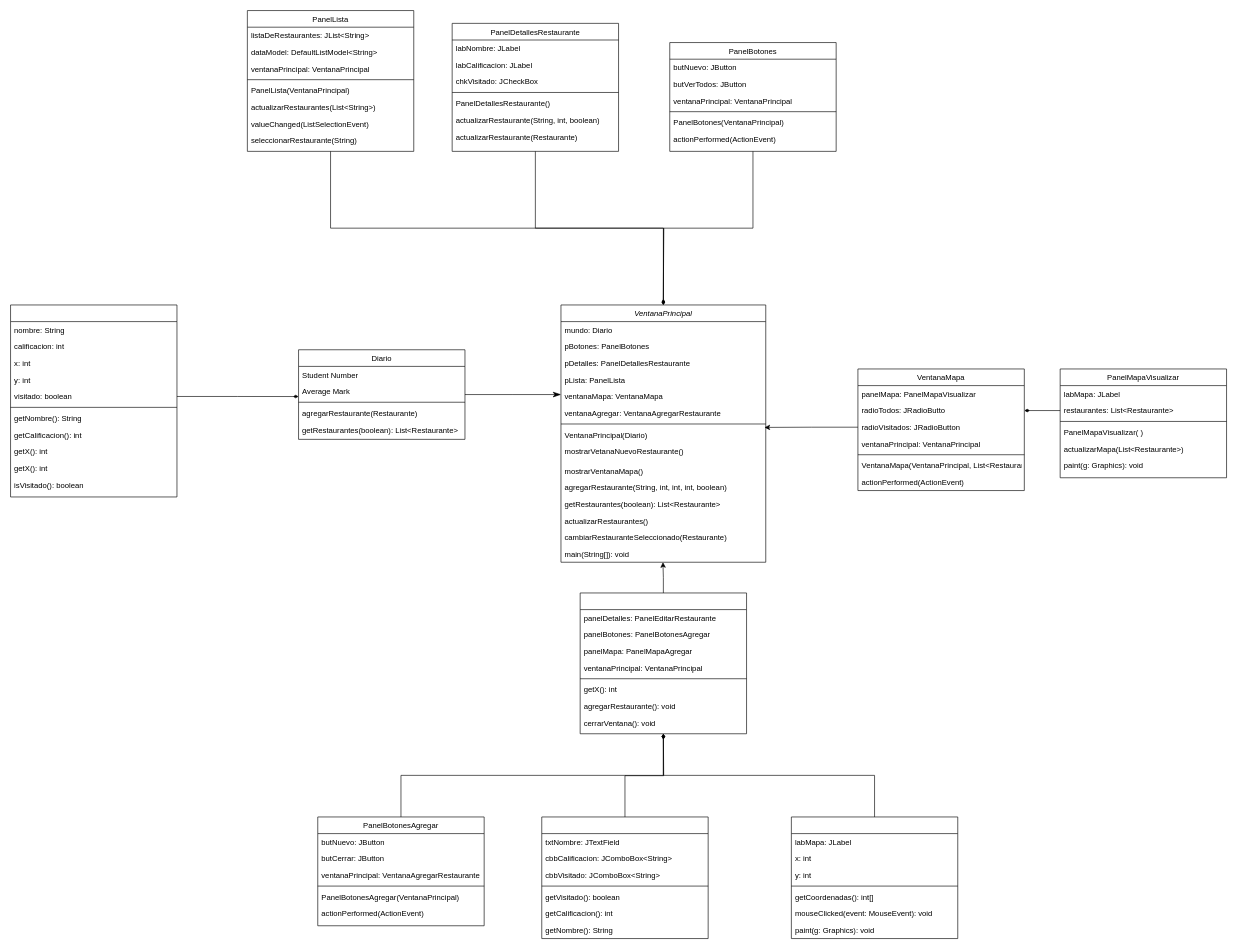
Some shapes in this 1237 by 949 pixel diagram are drawn without their labels. The shapes that lost their labels are listed below. From the top down, each one's box as (x1, y1, x2, y2) in pixels, then its label:
(10, 304, 177, 497): Restaurante
(580, 592, 747, 734): VentanaAgregarRestaurante
(541, 816, 708, 939): PanelEditarRestaurante
(791, 816, 958, 939): PanelMapaAgregar
